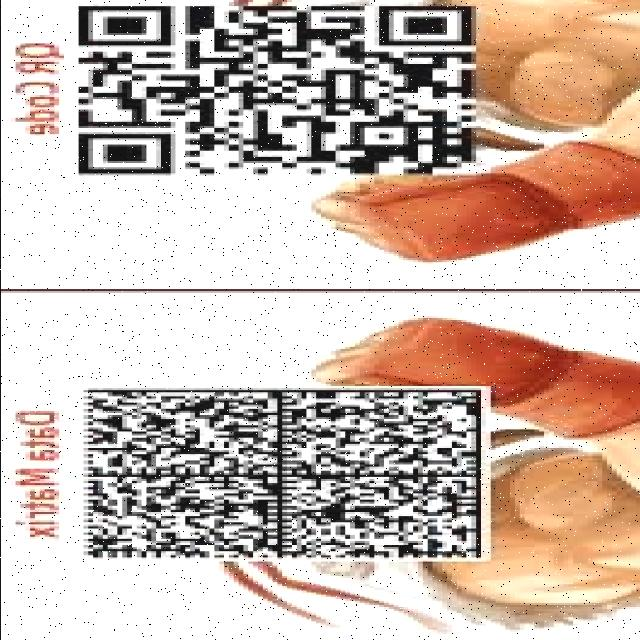datamatrix: (68, 386, 504, 568)
